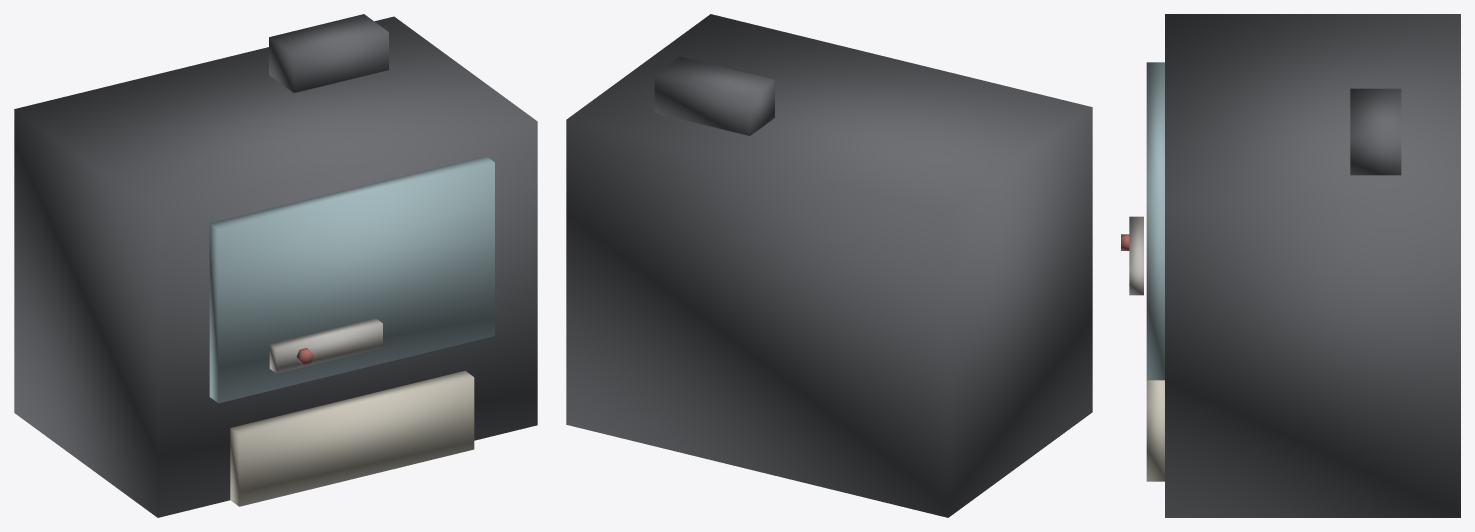
Rendered from microfilm_reader__service.glb.
3 views of the same model, side by side, from view 1: azimuth 30°, elevation 25°; view 2: azimuth 150°, elevation 25°; view 3: azimuth 270°, elevation 25° (orthographic). The views are drawn at different scales.
Visible parts, largest first — view 1: world; view 2: world; view 3: world.
Boxes of the visible parts, x1,y1,x2,y2 form: world: (14,14,537,517); world: (566,14,1092,517); world: (1121,14,1460,517).
Size of the model in its own units: 0.55 by 0.4725 by 0.4135.
